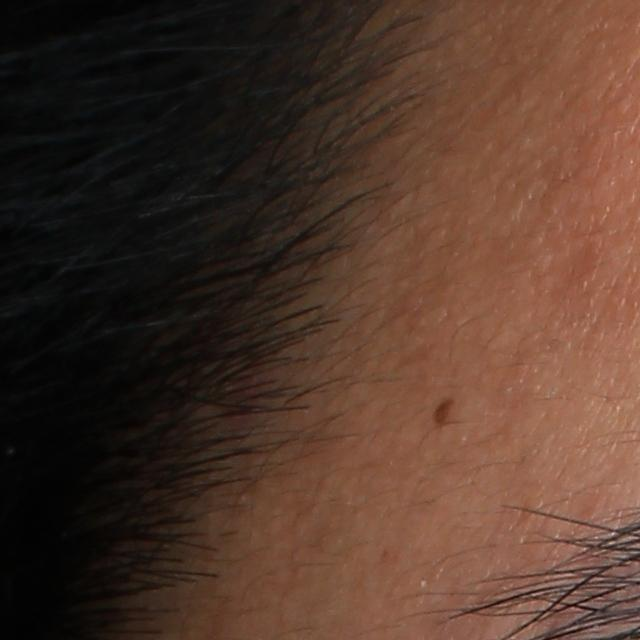nevus: (429, 395, 457, 436)
